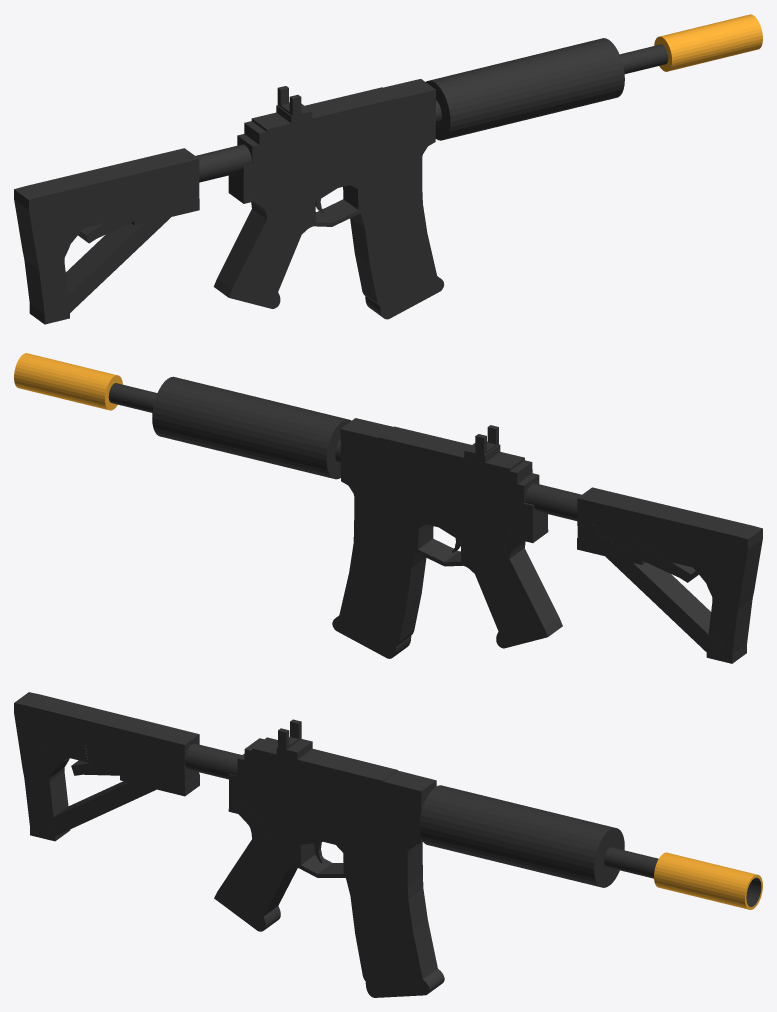
File: ar15FIXEDNORMALS 1.fbx
3 renders of one model, top to bottom at view 1: azimuth 30°, elevation 25°; view 2: azimuth 150°, elevation 25°; view 3: azimuth 330°, elevation 25°, orthographic.
Visible parts, largest first — view 1: Cube; view 2: Cube; view 3: Cube.
Boxes of the visible parts, left/top/right/bottom form: Cube: left=14, top=14, right=762, bottom=324; Cube: left=14, top=353, right=762, bottom=663; Cube: left=14, top=692, right=762, bottom=997.
Size of the model in its own units: 544 by 173 by 39.55.
